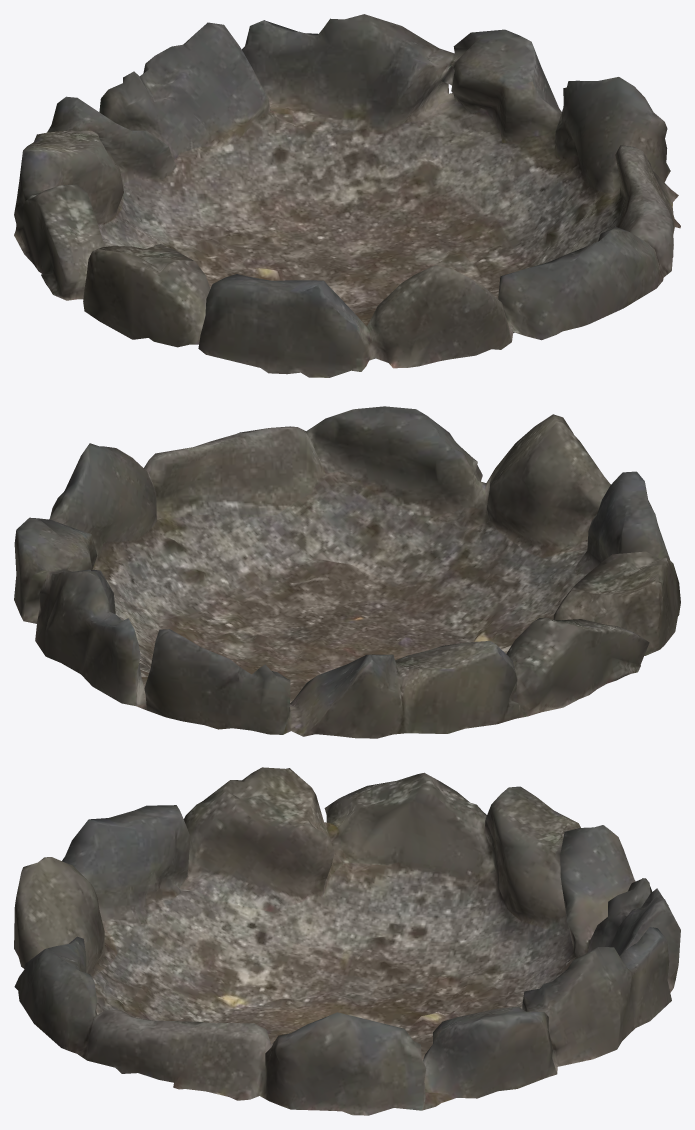
The model's file is firepit.glb.
3 renders of one model, top to bottom at view 1: azimuth 30°, elevation 25°; view 2: azimuth 150°, elevation 25°; view 3: azimuth 270°, elevation 25°, orthographic.
Parts seen in each view (by area): view 1: stone_fire_pit; view 2: stone_fire_pit; view 3: stone_fire_pit.
Boxes of the visible parts, box(x1,y1,x2,y2) form: stone_fire_pit: box(14, 14, 680, 377); stone_fire_pit: box(14, 406, 680, 738); stone_fire_pit: box(14, 767, 680, 1115).
Size of the model in its own units: 1.45 by 0.3883 by 1.43.
1 material, 1 textured.
